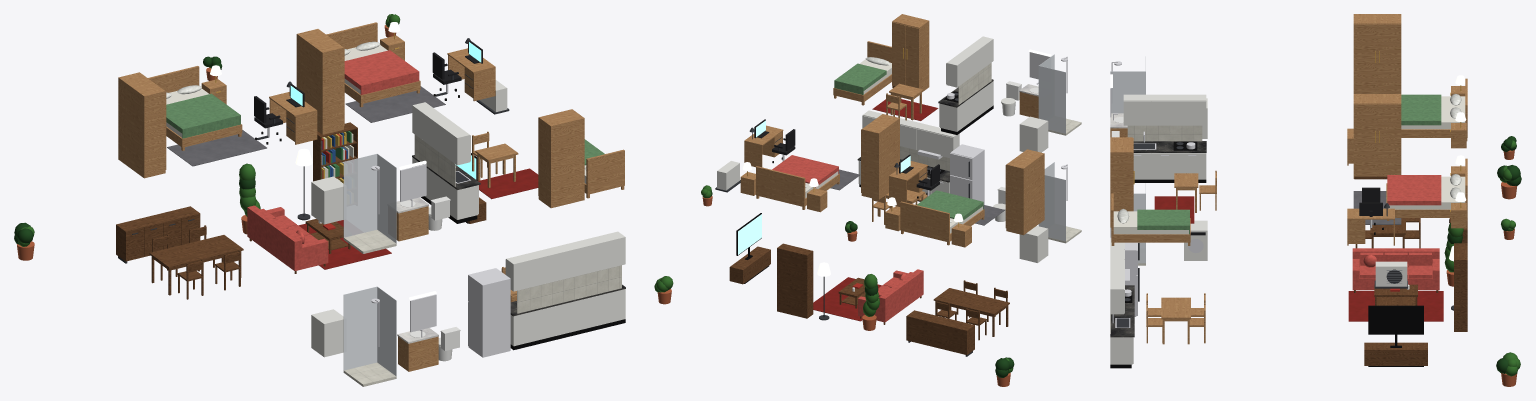
Rendered from i_jp_family_house.gltf.
The picture shows the model from 3 angles, left to right: view 1: azimuth 30°, elevation 25°; view 2: azimuth 150°, elevation 25°; view 3: azimuth 270°, elevation 25°; orthographic projection. The views are drawn at different scales.
Visible parts, largest first — view 1: I_jp_family_house; view 2: I_jp_family_house; view 3: I_jp_family_house.
Boxes of the visible parts, x1,y1,x2,y2 form: I_jp_family_house: (14,14,625,386); I_jp_family_house: (654,14,1081,386); I_jp_family_house: (1110,14,1521,386).
Bounding box in the file's own units: 11.74 × 5.6 × 10.38.
Materials: 33 (11 with a texture image).
